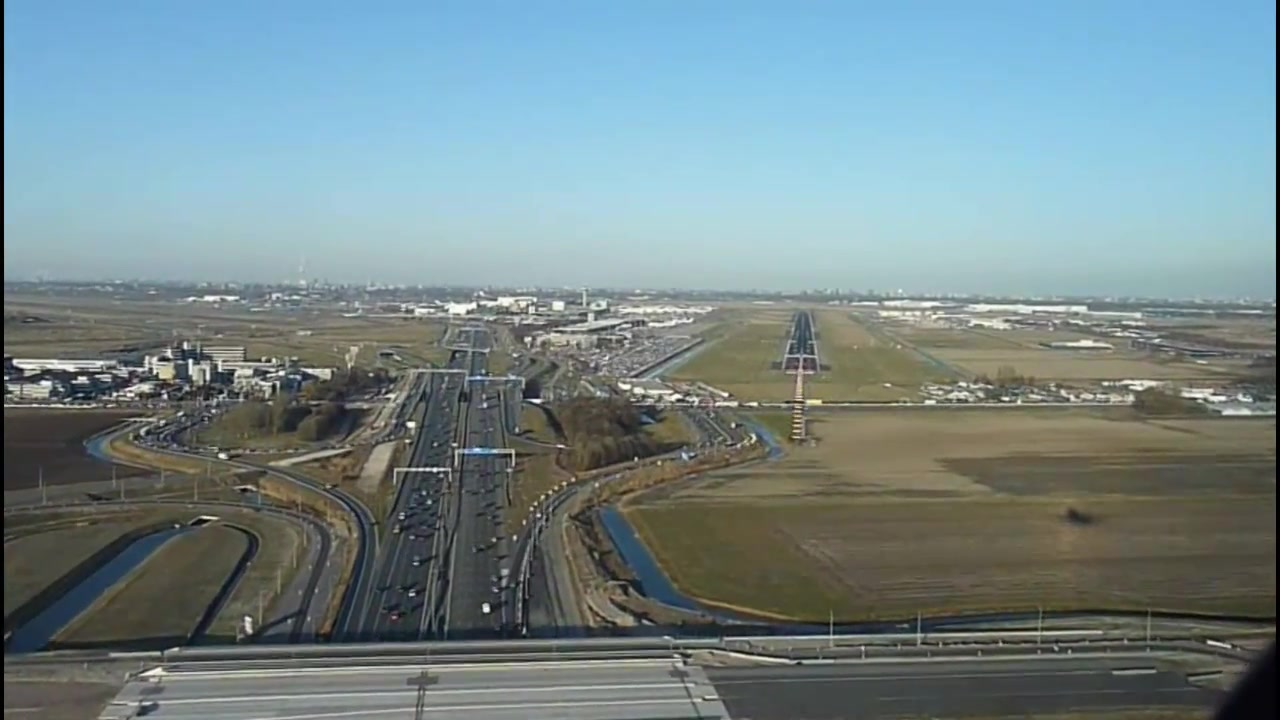runway: (781, 316, 822, 375)
